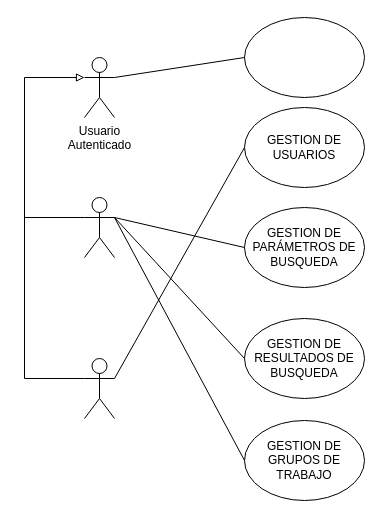
The diagram is 382 pixels wide and 518 high, and some of its shapes have lost their labels. The shapes that lost their labels are listed below. From the top down, each one's centre as x and y in pixels, then its label:
[304,57]: AUTENTICACION DE USUARIOS
[99,227]: Usuario
[99,388]: Administrador
